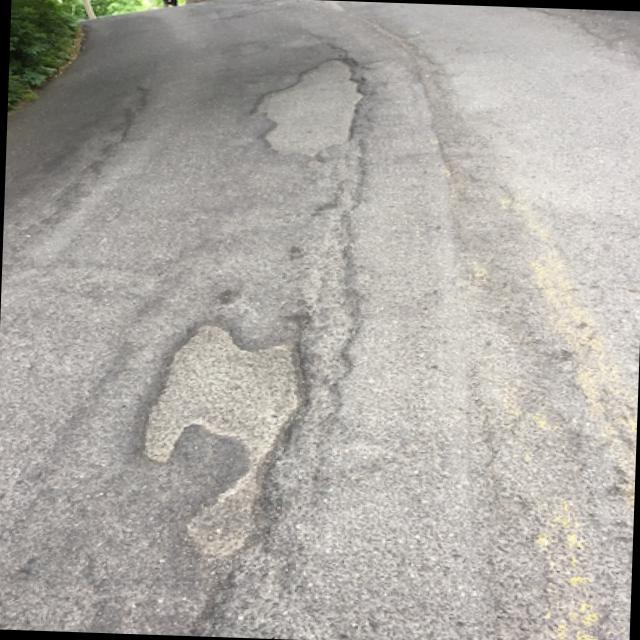Pothole: (152, 310, 313, 550), (245, 40, 376, 168)
